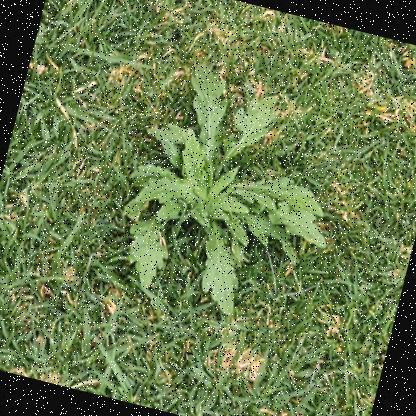Weeds: (105, 55, 361, 335)
